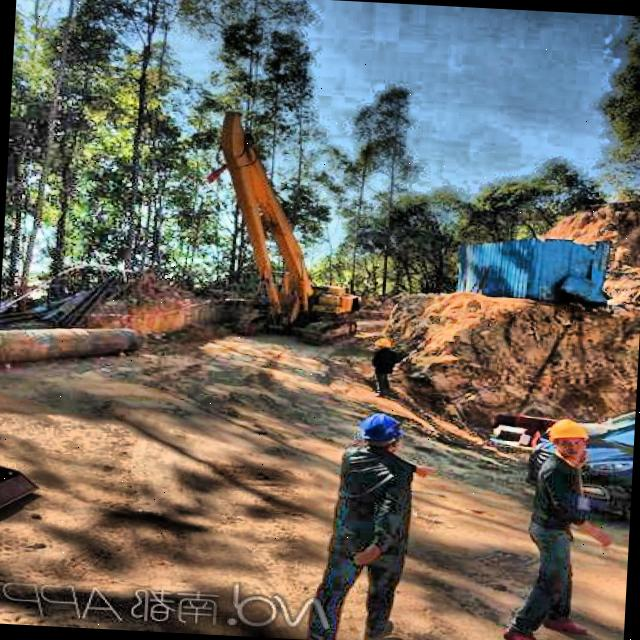helmet: (347, 408, 416, 452), (542, 414, 602, 464)
